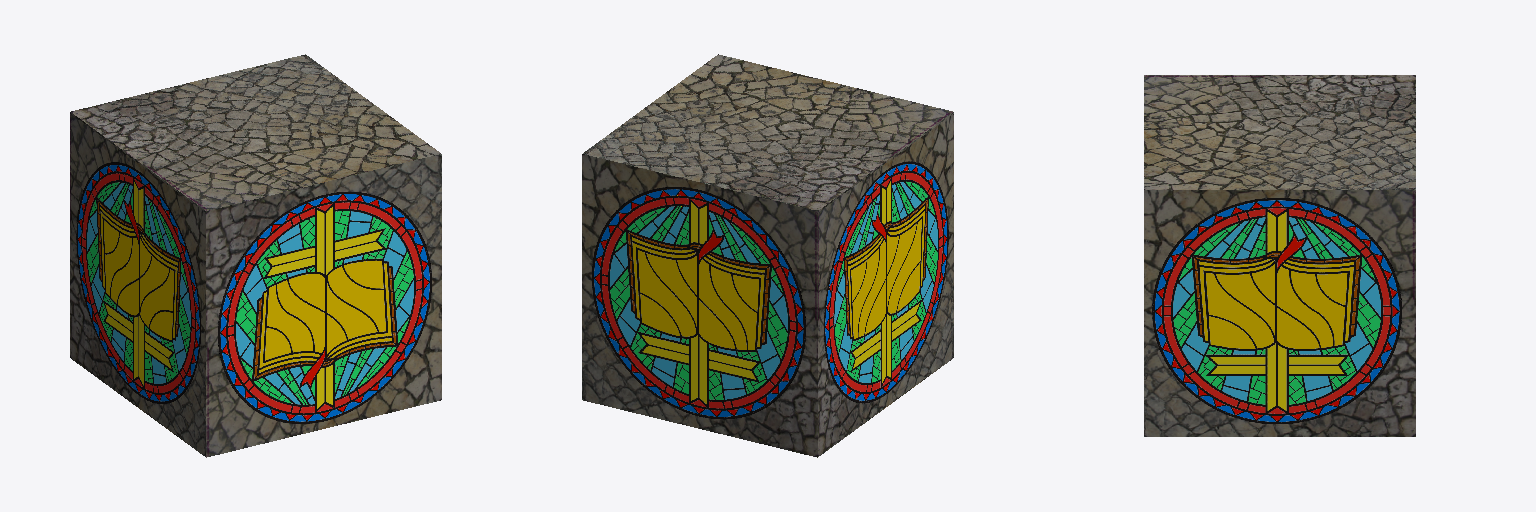
3 views of the same model, side by side, from view 1: azimuth 30°, elevation 25°; view 2: azimuth 150°, elevation 25°; view 3: azimuth 270°, elevation 25° (orthographic).
Parts seen in each view (by area): view 1: Cube.001; view 2: Cube.001; view 3: Cube.001.
Boxes of the visible parts, x1,y1,x2,y2 form: Cube.001: [70, 54, 441, 457]; Cube.001: [582, 54, 953, 457]; Cube.001: [1144, 75, 1415, 436].
Size of the model in its own units: 2 by 2 by 2.
Materials: 3 (2 with a texture image).